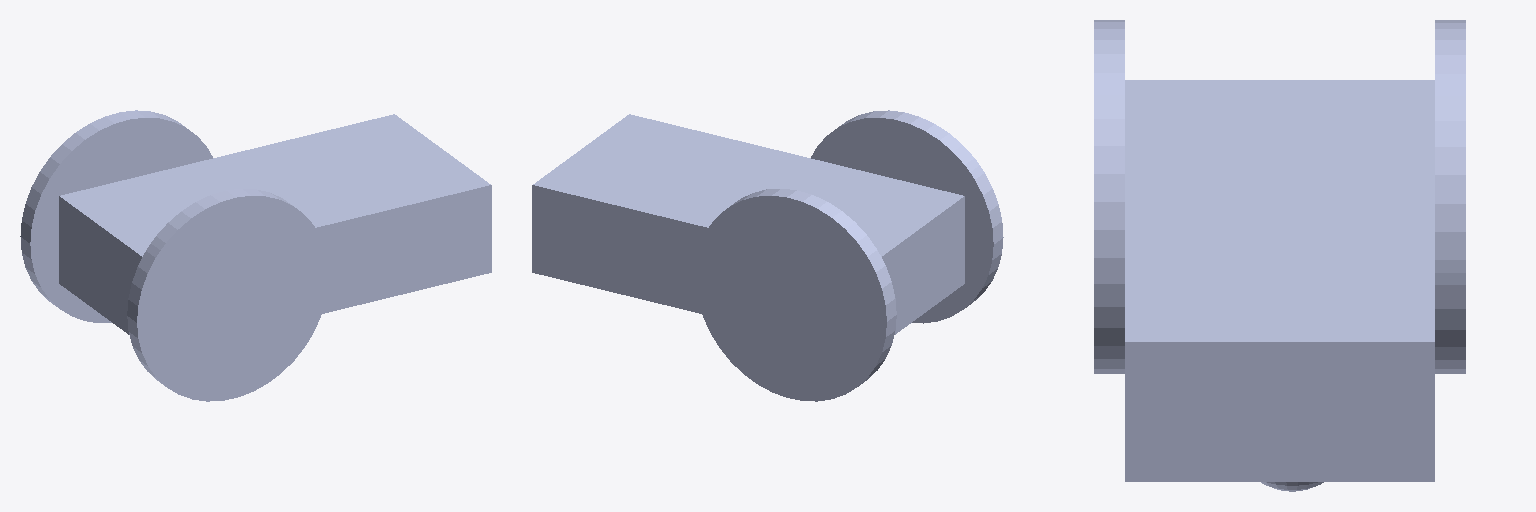
robot.urdf — Assem2:
<?xml version="1.0" encoding="utf-8"?>
<!-- This URDF was automatically created by SolidWorks to URDF Exporter! Originally created by [author] ([email redacted]) 
     Commit Version: 1.6.0-4-g7f85cfe  Build Version: 1.6.7995.38578
     For more information, please see http://wiki.ros.org/sw_urdf_exporter -->
<robot
  name="Assem2">
  <link
    name="base_link">
    <inertial>
      <origin
        xyz="0.00174619017977 6.24707071351371E-05 -0.0255370391164361"
        rpy="0 0 0" />
      <mass
        value="1.00225690416807" />
      <inertia
        ixx="0.00104861765126244"
        ixy="-3.62433809463736E-06"
        ixz="2.84889611920193E-05"
        iyy="0.00356385648031135"
        iyz="2.01598860300557E-06"
        izz="0.00416220148464466" />
    </inertial>
    <visual>
      <origin
        xyz="0 0 0"
        rpy="0 0 0" />
      <geometry>
        <mesh
          filename="package://Assem2/meshes/base_link.STL" />
      </geometry>
      <material
        name="">
        <color
          rgba="0.792156862745098 0.819607843137255 0.933333333333333 1" />
      </material>
    </visual>
    <collision>
      <origin
        xyz="0 0 0"
        rpy="0 0 0" />
      <geometry>
        <mesh
          filename="package://Assem2/meshes/base_link.STL" />
      </geometry>
    </collision>
  </link>
  <link
    name="linkright">
    <inertial>
      <origin
        xyz="3.46944695195361E-18 0.00559515385625099 1.80411241501588E-16"
        rpy="0 0 0" />
      <mass
        value="0.10981823361294" />
      <inertia
        ixx="8.68564732243223E-05"
        ixy="-2.72791896451786E-21"
        ixz="4.14375796986194E-21"
        iyy="0.000170732322983804"
        iyz="-9.0750769019773E-21"
        izz="8.68564732243223E-05" />
    </inertial>
    <visual>
      <origin
        xyz="0 0 0"
        rpy="0 0 0" />
      <geometry>
        <mesh
          filename="package://Assem2/meshes/linkright.STL" />
      </geometry>
      <material
        name="">
        <color
          rgba="0.792156862745098 0.819607843137255 0.933333333333333 1" />
      </material>
    </visual>
    <collision>
      <origin
        xyz="0 0 0"
        rpy="0 0 0" />
      <geometry>
        <mesh
          filename="package://Assem2/meshes/linkright.STL" />
      </geometry>
    </collision>
  </link>
  <joint
    name="rightlink"
    type="continuous">
    <origin
      xyz="-0.06 -0.06016 -0.023348"
      rpy="0 0 0" />
    <parent
      link="base_link" />
    <child
      link="linkright" />
    <axis
      xyz="0 1 0" />
    <limit
      effort="1"
      velocity="1" />
  </joint>
  <link
    name="linkleft">
    <inertial>
      <origin
        xyz="-1.04083408558608E-17 -0.00559515385625081 1.38777878078145E-17"
        rpy="0 0 0" />
      <mass
        value="0.10981823361294" />
      <inertia
        ixx="8.68564732243222E-05"
        ixy="1.41311408770085E-20"
        ixz="4.30502056982483E-23"
        iyy="0.000170732322983803"
        iyz="8.48943230662383E-21"
        izz="8.68564732243222E-05" />
    </inertial>
    <visual>
      <origin
        xyz="0 0 0"
        rpy="0 0 0" />
      <geometry>
        <mesh
          filename="package://Assem2/meshes/linkleft.STL" />
      </geometry>
      <material
        name="">
        <color
          rgba="0.792156862745098 0.819607843137255 0.933333333333333 1" />
      </material>
    </visual>
    <collision>
      <origin
        xyz="0 0 0"
        rpy="0 0 0" />
      <geometry>
        <mesh
          filename="package://Assem2/meshes/linkleft.STL" />
      </geometry>
    </collision>
  </link>
  <joint
    name="leftjoint"
    type="continuous">
    <origin
      xyz="-0.06 0.06016 -0.023348"
      rpy="0 0 0" />
    <parent
      link="base_link" />
    <child
      link="linkleft" />
    <axis
      xyz="0 1 0" />
    <limit
      effort="1"
      velocity="1" />
  </joint>
  <!-- <gazebo>
    <plugin name="gazebo_ros_control" filename="libgazebo_ros_control.so">
  </plugin>
  </gazebo> -->
  <gazebo>
    <plugin filename="libgazebo_ros_diff_drive.so" name="differential_drive_controller">
      <alwaysOn>true</alwaysOn>
      <updateRate>20</updateRate>
      <leftJoint>leftjoint</leftJoint>
      <rightJoint>rightlink</rightJoint>
      <wheelSeparation>0.1</wheelSeparation>
      <wheelDiameter>0.1143</wheelDiameter>
      <torque>0.1</torque>
      <commandTopic>cmd_vel</commandTopic>
      <odometryTopic>odom</odometryTopic>
      <odometryFrame>odom</odometryFrame>
      <robotBaseFrame>base_link</robotBaseFrame>
    </plugin>
  </gazebo>
</robot>

--- Render facts (derived) ---
3 views of the same robot in one strip: view 1: azimuth 30°, elevation 25°; view 2: azimuth 150°, elevation 25°; view 3: azimuth 270°, elevation 25° (orthographic).
Robot: Assem2 — 3 links, 2 joints (2 continuous); root link base_link; default pose: all joints at 0.
Visible links, largest first — view 1: base_link, linkright, linkleft; view 2: base_link, linkleft, linkright; view 3: base_link, linkright, linkleft.
Boxes of the visible links, x1,y1,x2,y2 form: base_link: (59,114,491,334); linkright: (127,189,328,401); linkleft: (20,110,212,322); base_link: (532,114,964,334); linkleft: (695,189,896,401); linkright: (811,110,1003,323); base_link: (1125,80,1434,491); linkright: (1094,20,1124,373); linkleft: (1435,20,1465,373).
Bounding box of the posed robot: 0.2171 × 0.1203 × 0.1142 m (x, y, z).
Meshes: 3 distinct files referenced, 3 mesh visuals loaded (3 binary STL).
